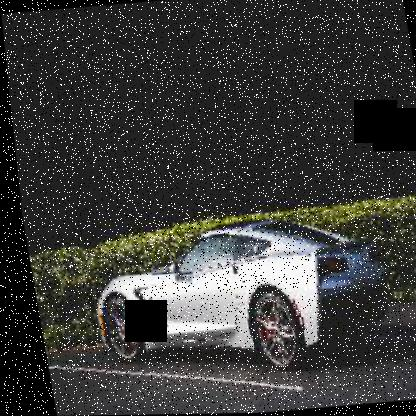not_emergency: (68, 208, 415, 380)
